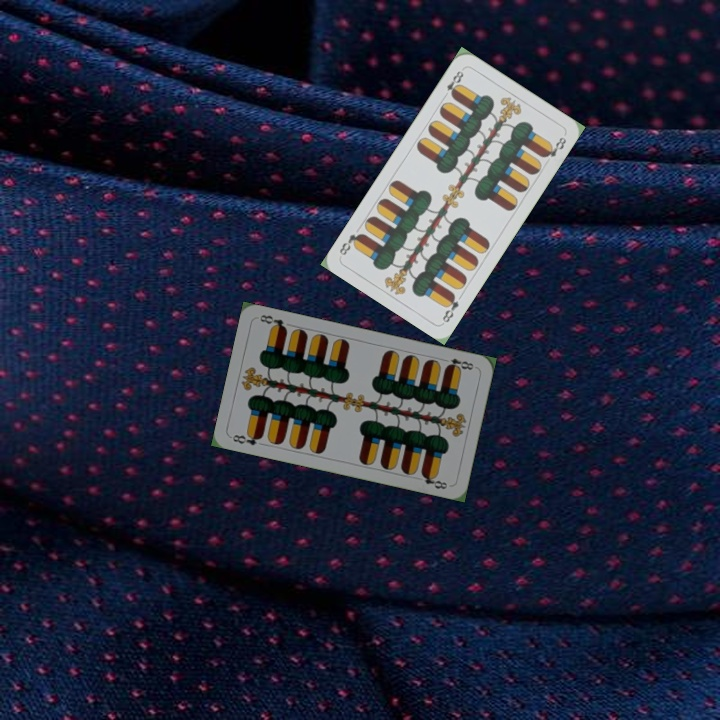E8: (439, 65, 466, 101), (438, 290, 461, 325), (438, 354, 478, 373), (228, 429, 265, 448)
